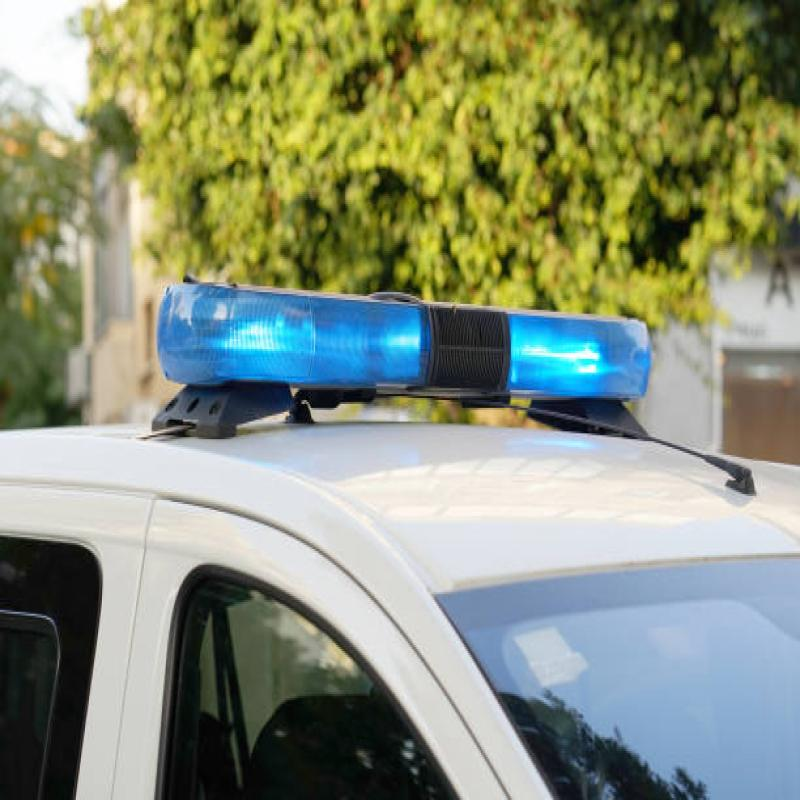AmbulanceSiren: (138, 283, 680, 456)
